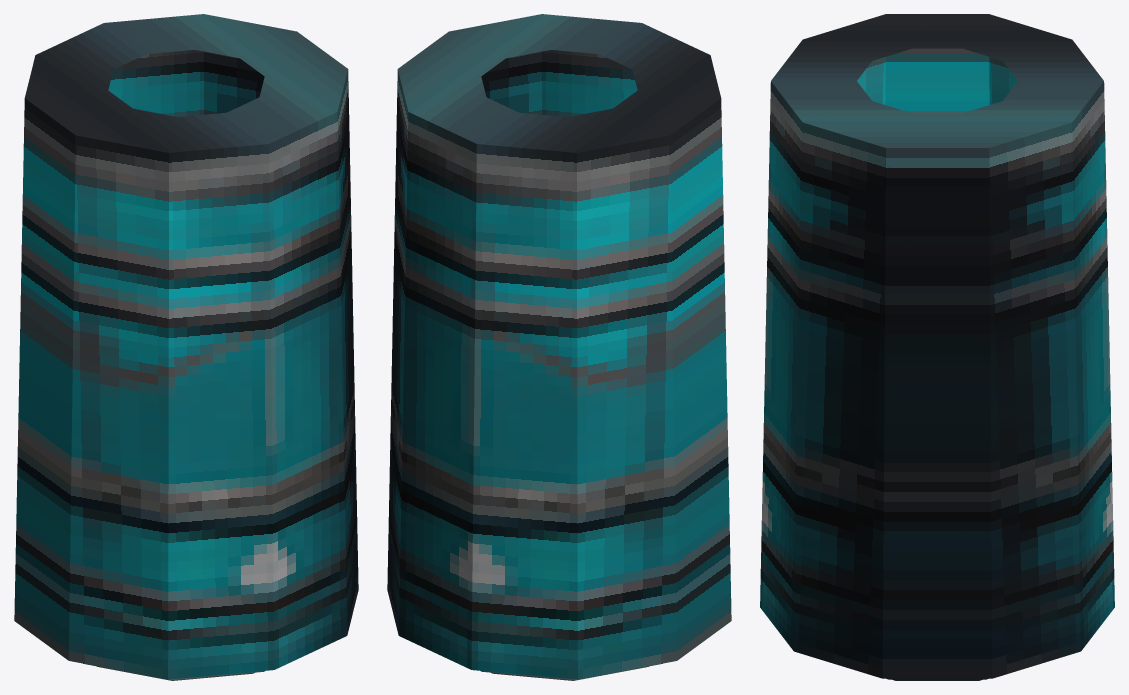
Rendered from barrel-water.obj.
3 views of the same model, side by side, from view 1: azimuth 30°, elevation 25°; view 2: azimuth 150°, elevation 25°; view 3: azimuth 270°, elevation 25° (orthographic).
Bounding box in the file's own units: 0.243 × 0.4492 × 0.2556.
